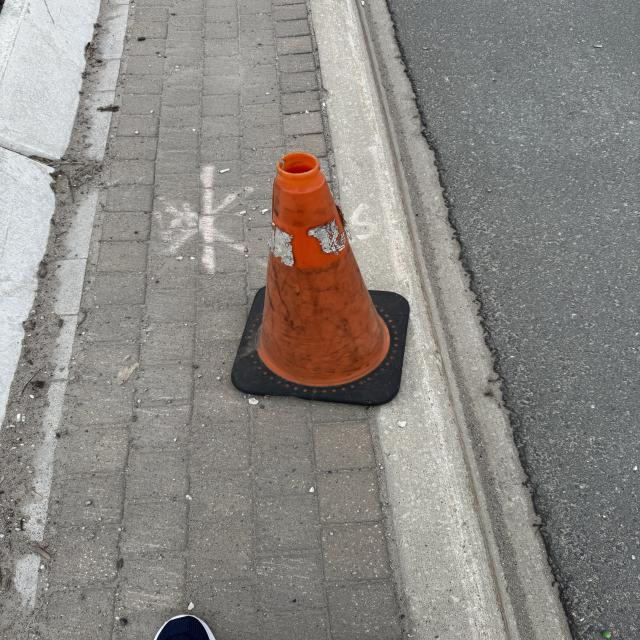Traffic Cone: (228, 152, 414, 407)
